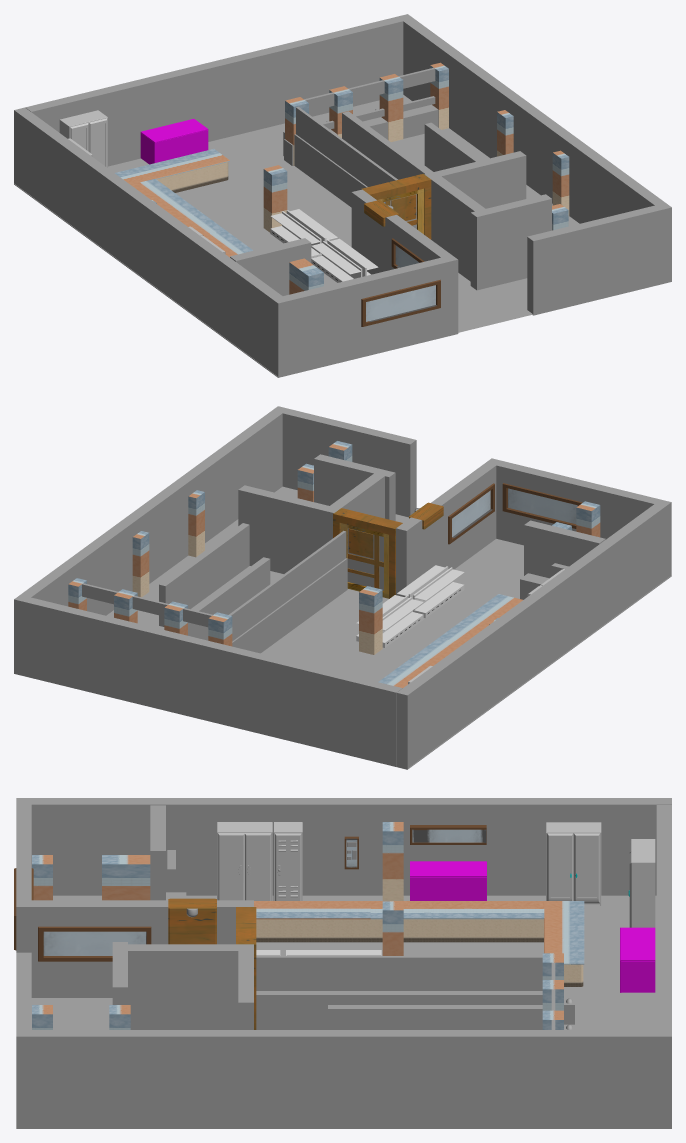
The model's file is Test_Armery.fbx.
3 views of the same model, one above another, from view 1: azimuth 30°, elevation 25°; view 2: azimuth 150°, elevation 25°; view 3: azimuth 270°, elevation 25° (orthographic). The views are drawn at different scales.
Visible parts, largest first — view 1: Walls2, Walls1, Walls, Floor, Walls4, Walls3, Walls7, table1, Walls19, Walls8, Walls6, Walls13 (+22 smaller); view 2: Walls1, Walls2, Walls, Floor, Walls4, Walls19, Walls8, Walls3, Walls15, Walls12, Walls13, table1 (+21 smaller); view 3: Walls, Walls2, table1, Floor, Walls13, Walls6, Walls19, Walls12, Walls14, Walls1, Window2, Pillar_12 (+28 smaller).
Part boxes in pixels (x1=…): Walls2: x1=14, y1=107, x2=288, y2=377; Walls1: x1=25, y1=16, x2=403, y2=166; Walls: x1=397, y1=14, x2=671, y2=284; Floor: x1=14, y1=95, x2=579, y2=376; Walls4: x1=527, y1=205, x2=661, y2=315; Walls3: x1=283, y1=257, x2=447, y2=375; Walls7: x1=470, y1=194, x2=551, y2=290; table1: x1=115, y1=149, x2=252, y2=257; Walls19: x1=351, y1=189, x2=458, y2=336; Walls8: x1=424, y1=151, x2=526, y2=208; Walls6: x1=431, y1=176, x2=485, y2=281; Walls13: x1=296, y1=107, x2=397, y2=186; Walls1: x1=24, y1=597, x2=402, y2=766; Walls2: x1=396, y1=499, x2=671, y2=769; Walls: x1=14, y1=406, x2=288, y2=676; Floor: x1=106, y1=486, x2=671, y2=768; Walls4: x1=282, y1=409, x2=416, y2=517; Walls19: x1=396, y1=458, x2=501, y2=597; Walls8: x1=238, y1=485, x2=339, y2=573; Walls3: x1=496, y1=461, x2=660, y2=545; Walls15: x1=159, y1=523, x2=249, y2=626; Walls12: x1=232, y1=558, x2=347, y2=653; Walls13: x1=229, y1=530, x2=346, y2=641; table1: x1=378, y1=594, x2=522, y2=687; Walls: x1=16, y1=1030, x2=671, y2=1128; Walls2: x1=16, y1=798, x2=671, y2=895; table1: x1=254, y1=901, x2=584, y2=986; Floor: x1=31, y1=895, x2=656, y2=1029; Walls13: x1=256, y1=956, x2=542, y2=990; Walls6: x1=128, y1=944, x2=238, y2=1029; Walls19: x1=16, y1=900, x2=253, y2=997; Walls12: x1=256, y1=991, x2=542, y2=1029; Walls14: x1=328, y1=1005, x2=542, y2=1029; Walls1: x1=656, y1=805, x2=671, y2=1029; Window2: x1=38, y1=926, x2=151, y2=961; Pillar_12: x1=102, y1=855, x2=150, y2=900.
Bounding box in the file's own units: 1459 × 263 × 1700.
